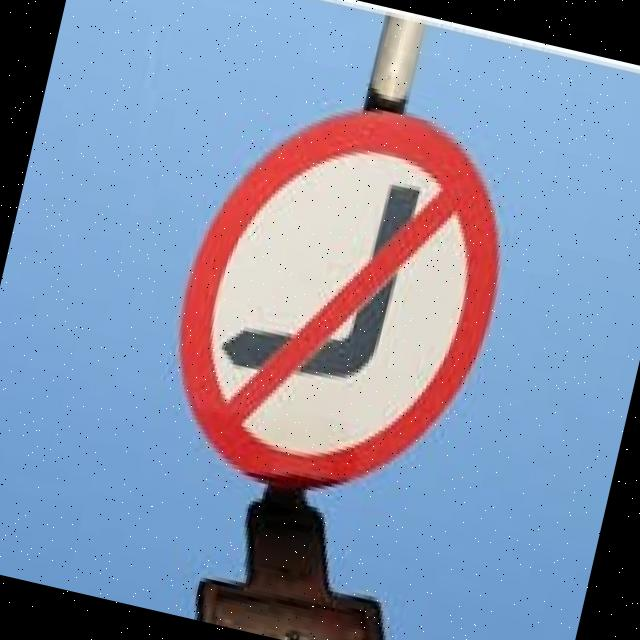do_not_turn_right: (144, 68, 538, 530)
